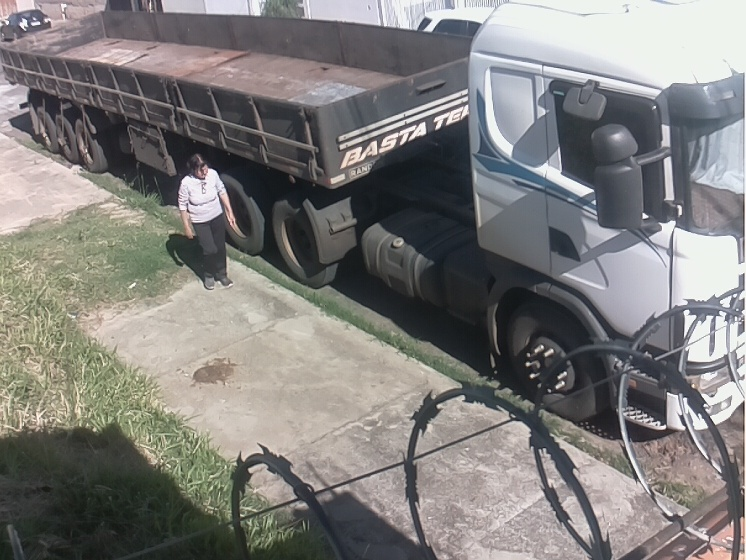person: (177, 152, 235, 291)
